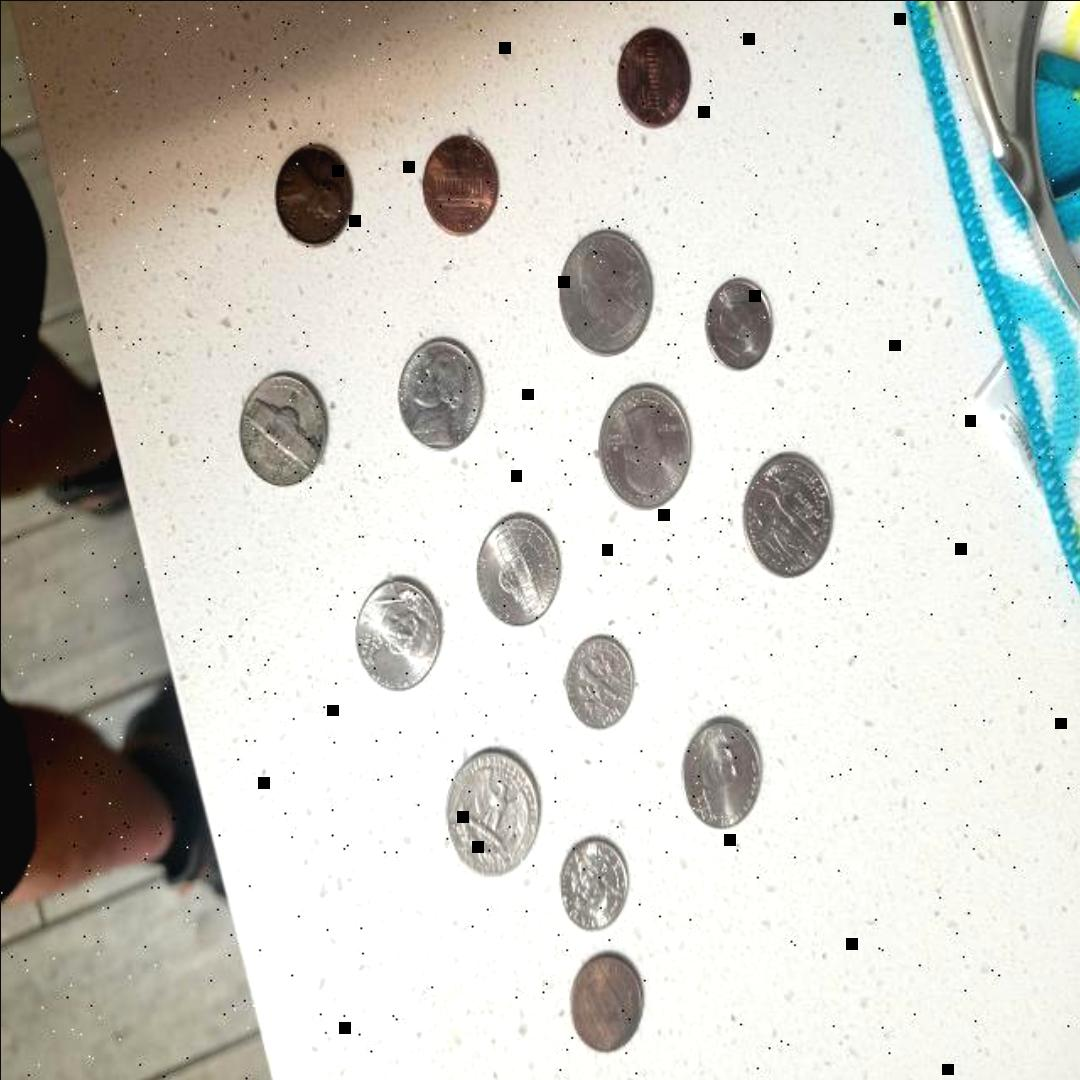Dime: (554, 829, 634, 940), (698, 278, 777, 375), (566, 632, 634, 744)
Nickel: (235, 368, 336, 496), (475, 508, 564, 631), (678, 710, 764, 836), (356, 571, 444, 689), (396, 337, 486, 448)
Penny: (566, 947, 646, 1065), (270, 140, 354, 244), (415, 132, 497, 232), (616, 20, 691, 126)
Quarter: (594, 378, 696, 512), (740, 450, 834, 584), (557, 226, 653, 357), (445, 750, 539, 878), (565, 354, 570, 357)
